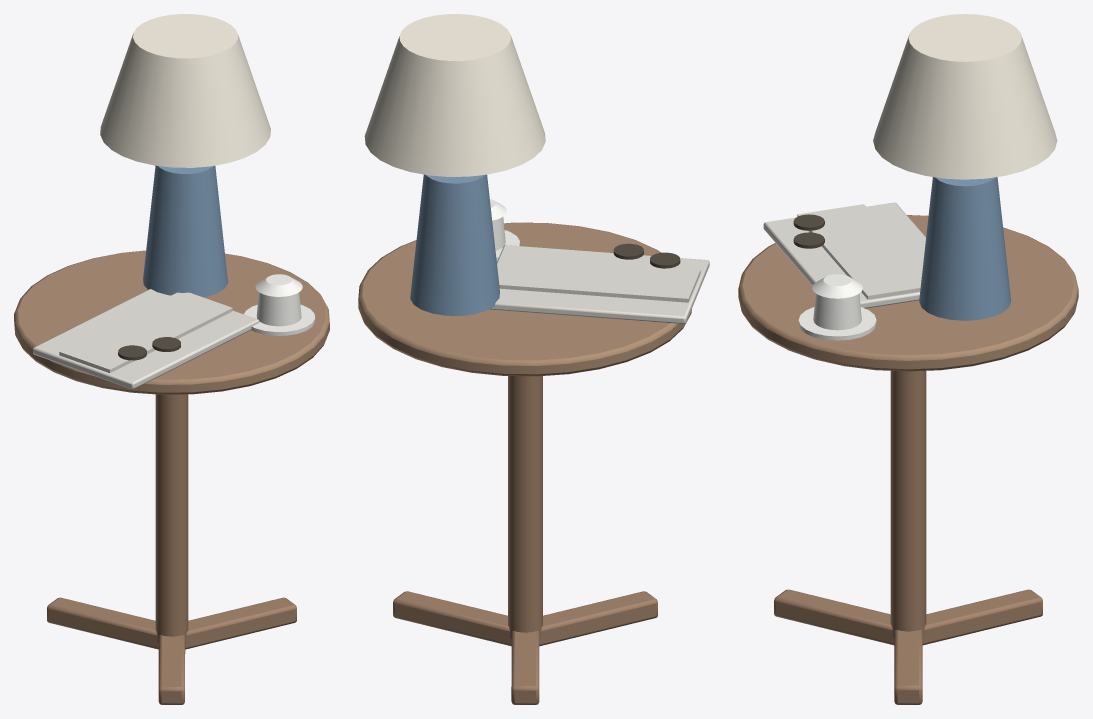
The model's file is dn_side_table.fbx.
3 views of the same model, side by side, from view 1: azimuth 30°, elevation 25°; view 2: azimuth 150°, elevation 25°; view 3: azimuth 270°, elevation 25° (orthographic). The views are drawn at different scales.
Parts seen in each view (by area): view 1: LampShade.001, Top.007, LampBase.001, Stem.001, Newspaper.001, NewsFold, Foot, Foot.001, Foot.002, TeaCup, Saucer.001, TeaLid; view 2: LampShade.001, Top.007, LampBase.001, Stem.001, NewsFold, Newspaper.001, Foot.002, Foot, Foot.001; view 3: LampShade.001, Top.007, LampBase.001, Stem.001, NewsFold, Newspaper.001, Foot.002, Foot.001, Foot, TeaCup, Saucer.001, TeaLid.
Boxes of the visible parts, box(x1,y1,x2,y2) form: LampShade.001: box(100, 14, 270, 167); Top.007: box(14, 250, 329, 394); LampBase.001: box(143, 165, 227, 297); Stem.001: box(155, 394, 188, 642); Newspaper.001: box(33, 289, 259, 389); NewsFold: box(59, 292, 232, 373); Foot: box(185, 597, 296, 649); Foot.001: box(47, 597, 158, 649); Foot.002: box(158, 635, 185, 704); TeaCup: box(256, 292, 301, 326); Saucer.001: box(244, 304, 315, 335); TeaLid: box(255, 274, 302, 296); LampShade.001: box(364, 14, 545, 176); Top.007: box(358, 222, 691, 376); LampBase.001: box(410, 174, 499, 315); Stem.001: box(508, 376, 542, 638); NewsFold: box(497, 255, 700, 302); Newspaper.001: box(489, 245, 709, 323); Foot.002: box(539, 591, 657, 646); Foot: box(393, 591, 511, 646); Foot.001: box(511, 631, 539, 704); LampShade.001: box(873, 14, 1057, 179); Top.007: box(738, 215, 1078, 371); LampBase.001: box(919, 177, 1011, 320); Stem.001: box(890, 371, 926, 637); NewsFold: box(797, 204, 922, 299); Newspaper.001: box(763, 202, 925, 308); Foot.002: box(774, 589, 894, 645); Foot.001: box(922, 589, 1042, 645); Foot: box(894, 629, 922, 704); TeaCup: box(813, 293, 861, 330); Saucer.001: box(798, 307, 876, 340); TeaLid: box(812, 274, 862, 298).
Size of the model in its own units: 0.4942 by 0.975 by 0.48.
